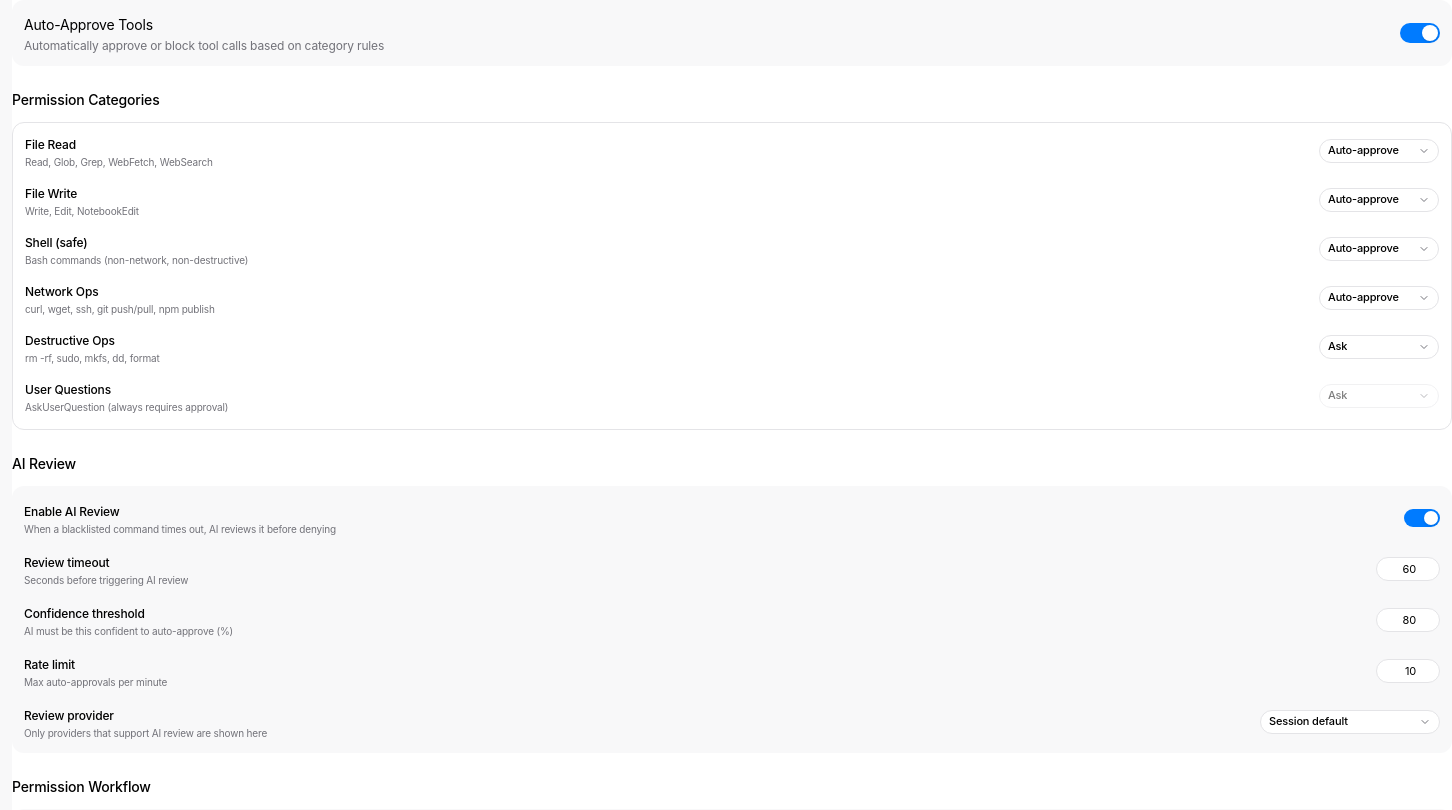
Scenario: PermissionSettings › only lists providers that support AI review
Expected: the text "Review provider" is shown, 24,708 -> 114,723
Click the button "Session default". click: x=1350, y=722
box: 1260,710 -> 1440,734
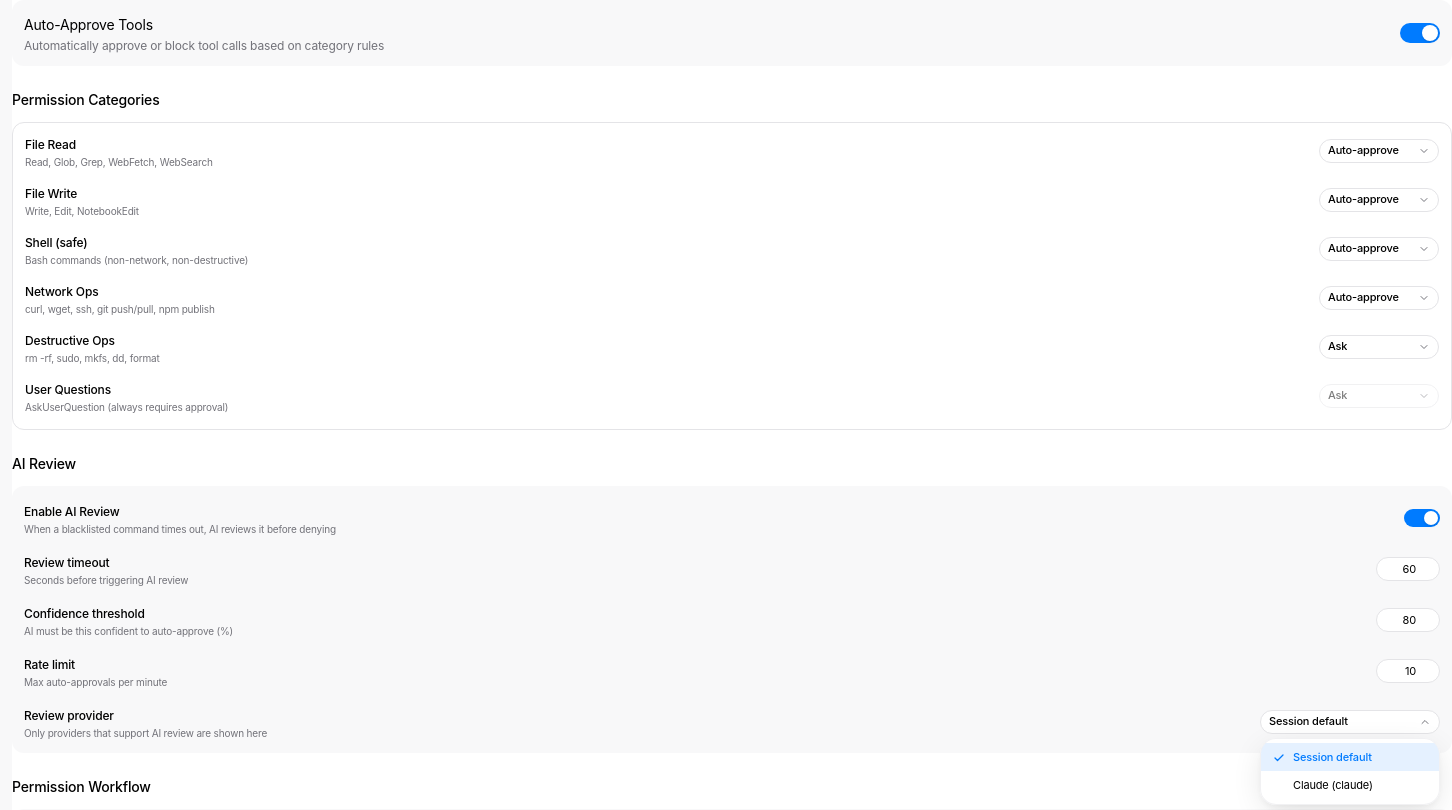
Result: the option "Session default" is shown at 1261,742 -> 1439,771
Result: the option "Claude (claude)" is shown at 1261,771 -> 1439,800
